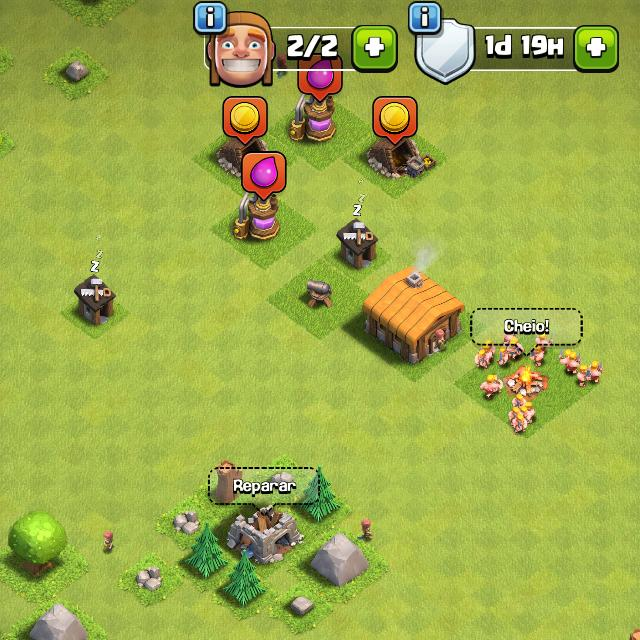Canhao: (302, 275, 336, 312)
FullCoin: (373, 96, 419, 146), (222, 96, 267, 145)
FullElixir: (243, 150, 287, 202), (297, 70, 343, 102)
